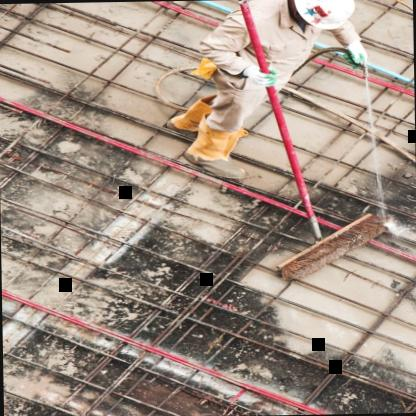helmet: (283, 0, 358, 30)
